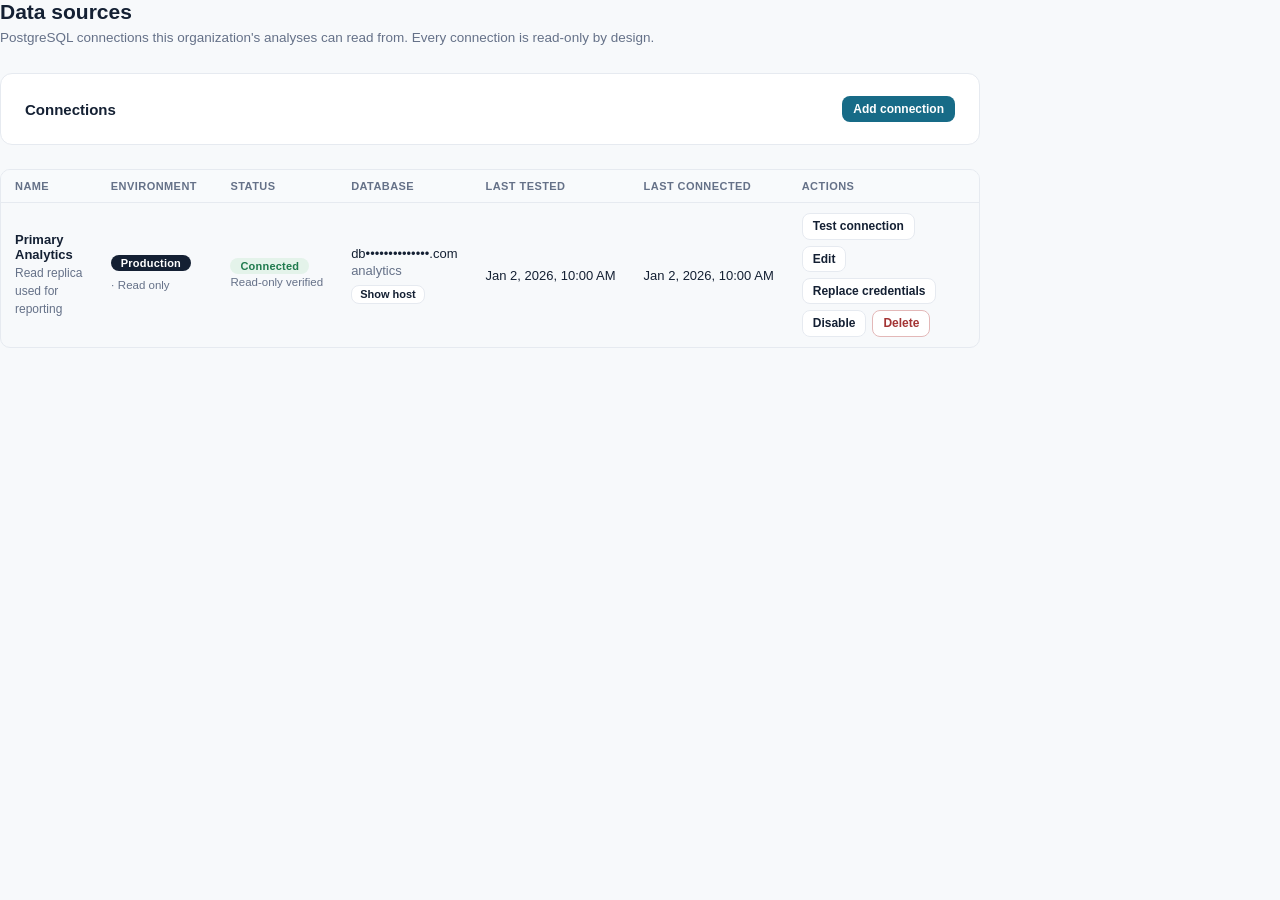
Test: DataSourcesSettings › surfaces a 403 from the backend as a readable message instead of crashing
Check: the text "Primary Analytics" is shown, box top-left (15, 232), bottom-right (83, 262)
Click the button "Delete".
click(901, 324)  # box top-left (872, 310), bottom-right (930, 337)
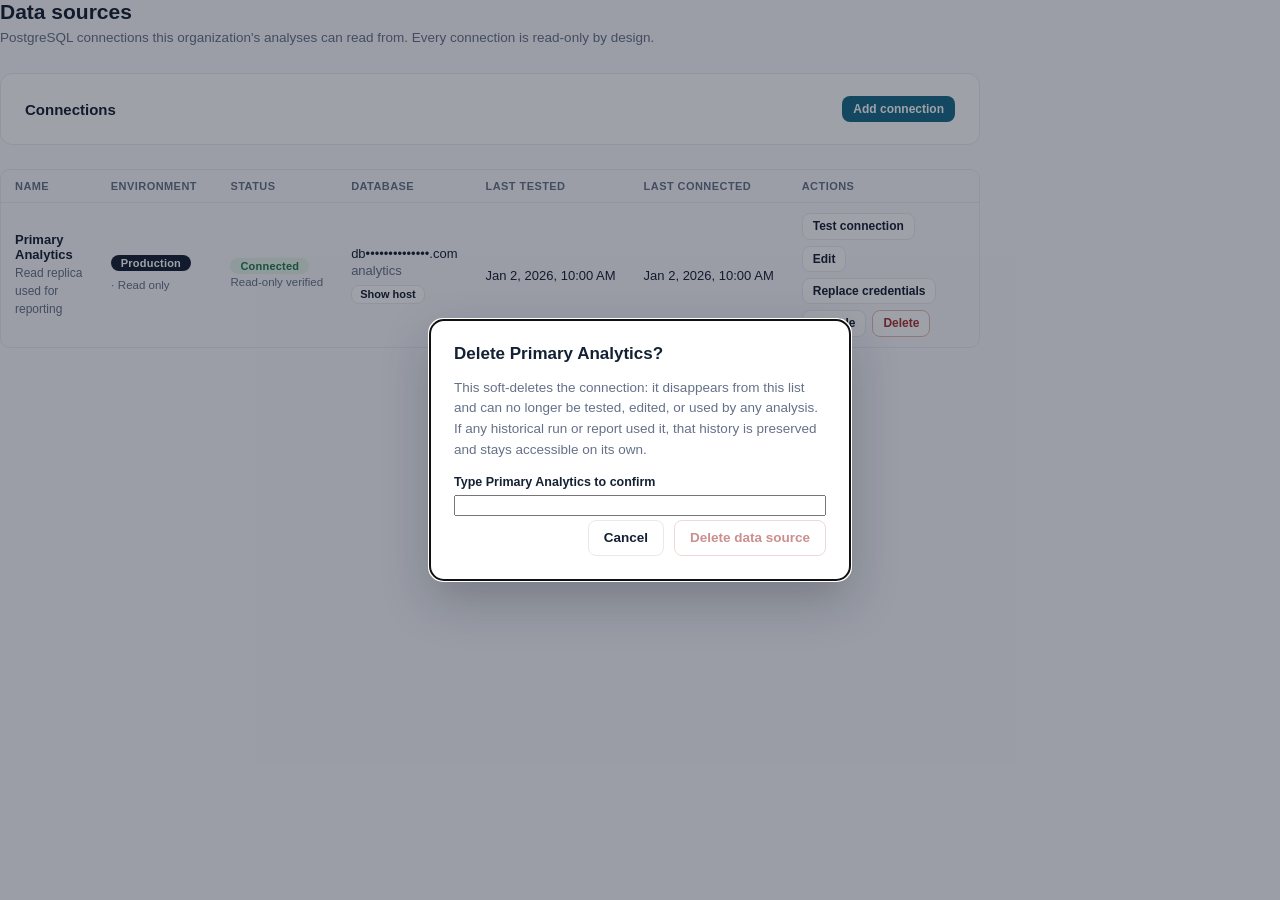
Type "Primary Analytics" into the field labelled "Type Primary Analytics to confirm".
click(640, 506); type("Primary Analytics")  # box top-left (454, 495), bottom-right (826, 516)
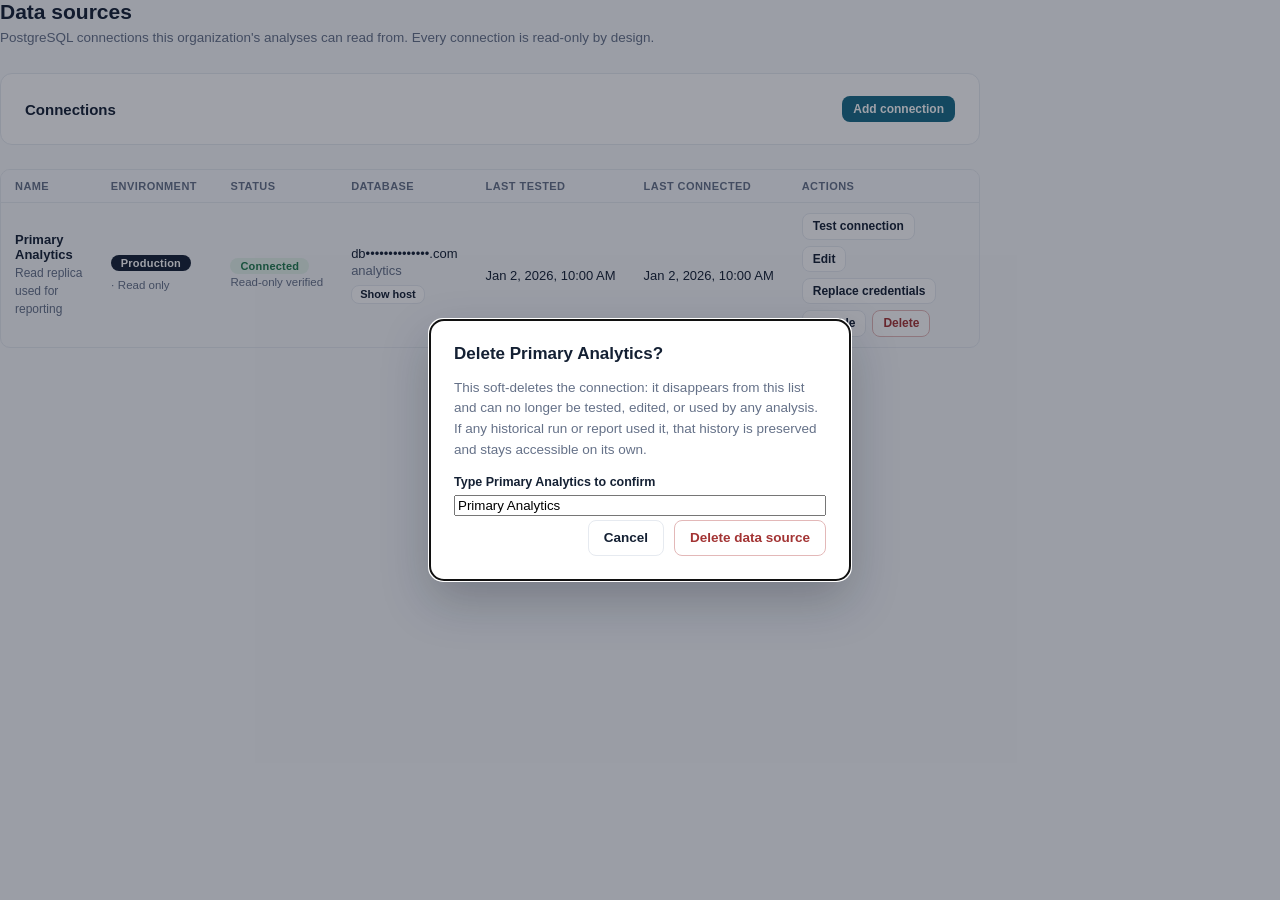
Click the button "Delete data source".
click(750, 538)  # box top-left (674, 520), bottom-right (826, 556)
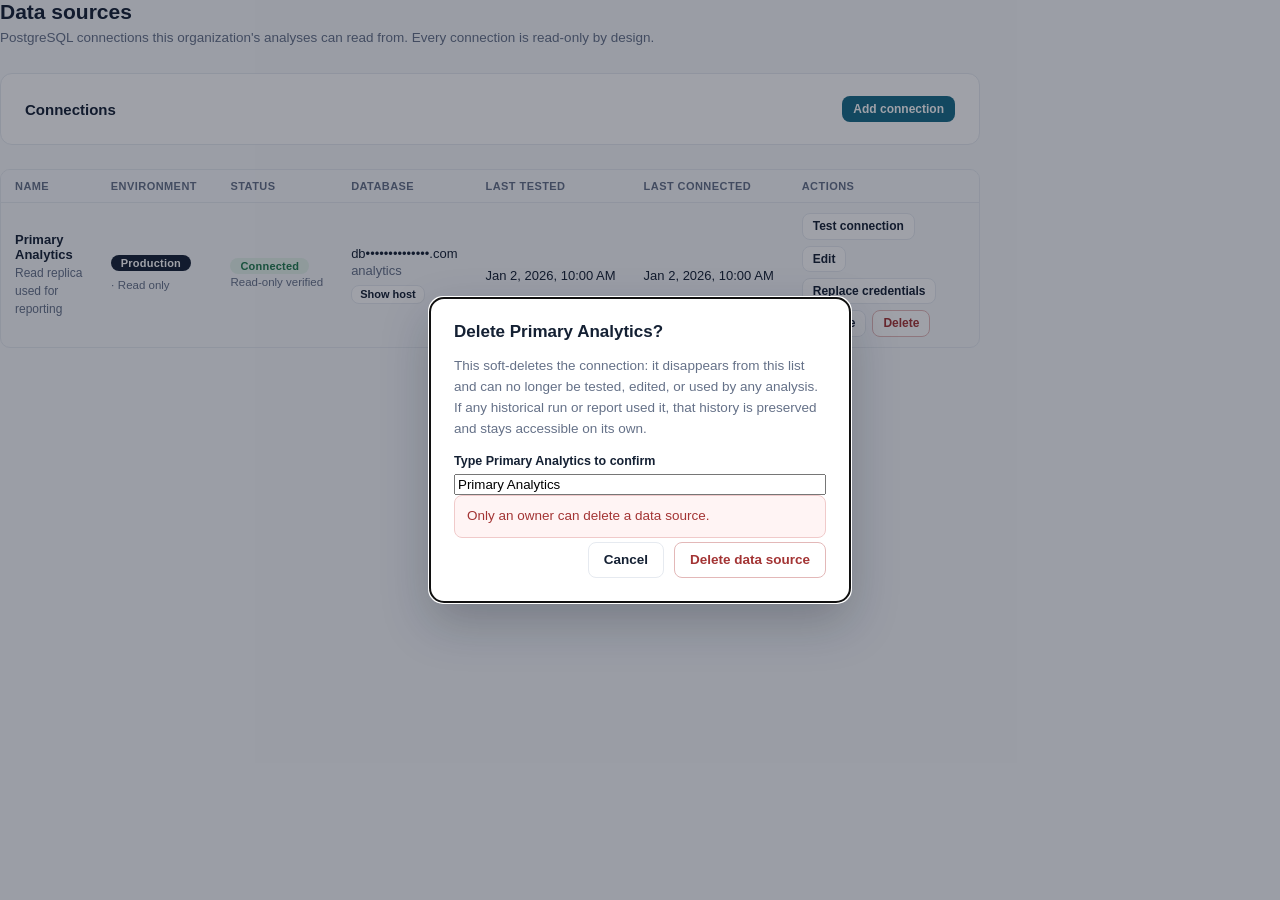
Check: the text "Only an owner can delete a data source." is shown, box top-left (454, 495), bottom-right (826, 538)
